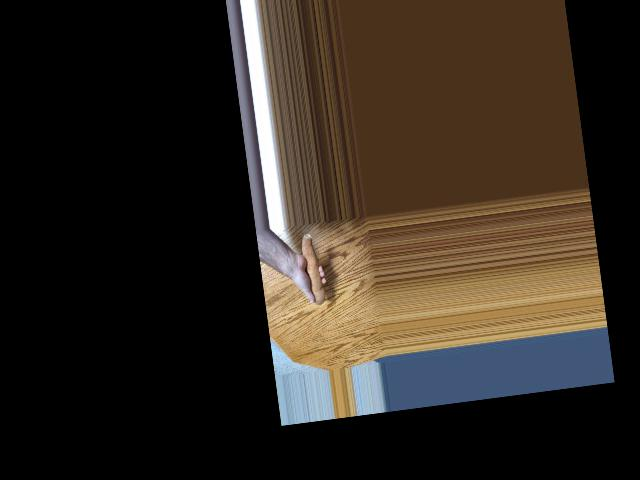sweet_potato: (294, 230, 327, 307)
